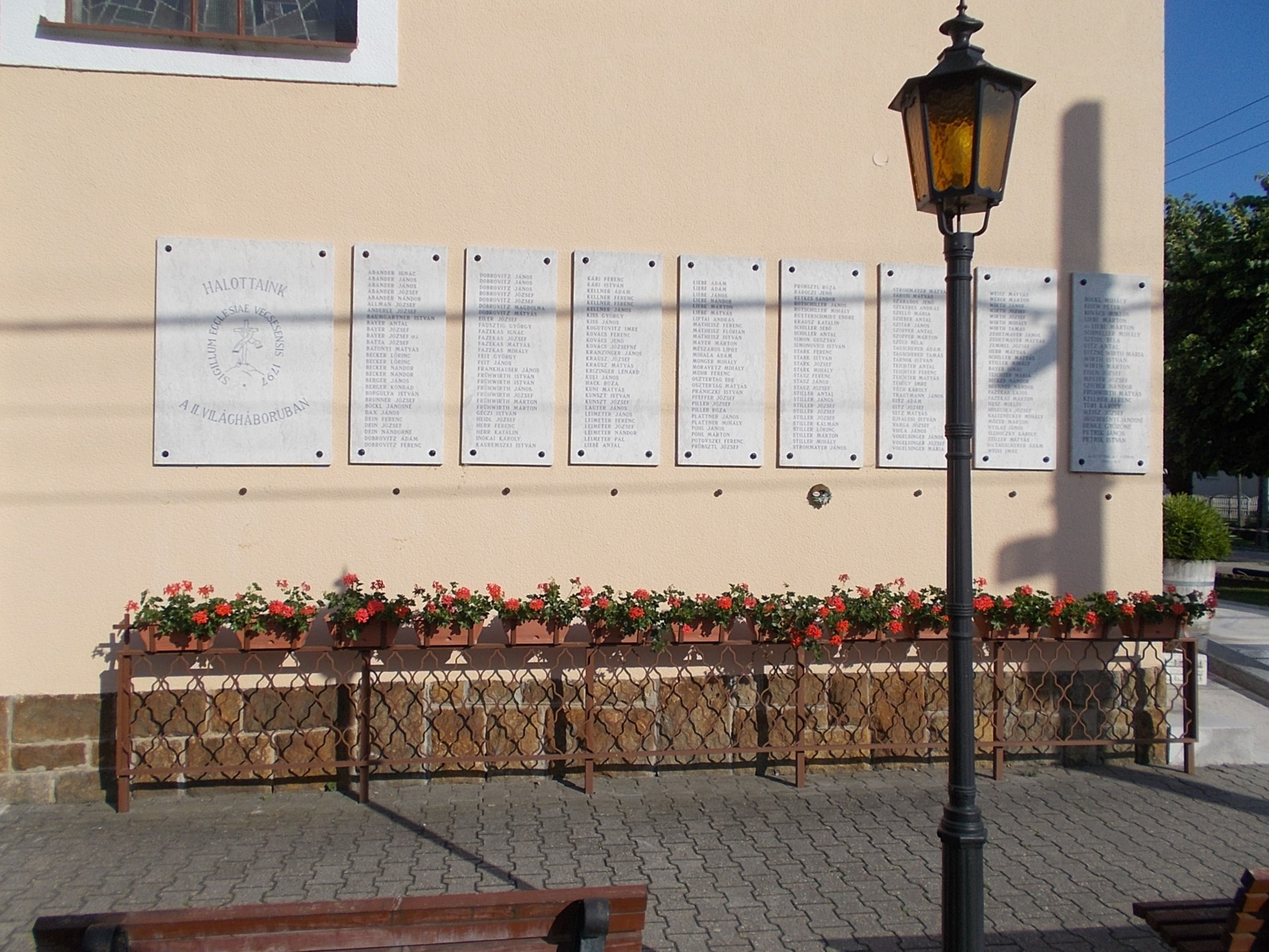fachada: (0, 0, 1166, 759)
poste: (891, 5, 1044, 952)
